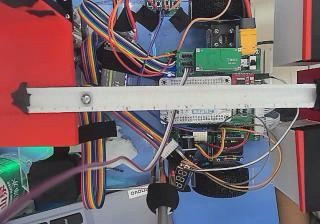ironball: (79, 91, 90, 104)
